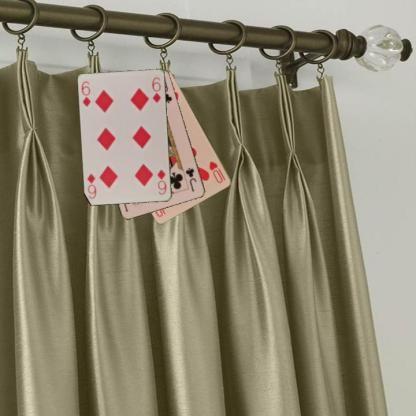10h: (207, 158, 227, 184)
6d: (78, 79, 92, 108), (155, 167, 167, 196)
Jc: (183, 165, 198, 193)
